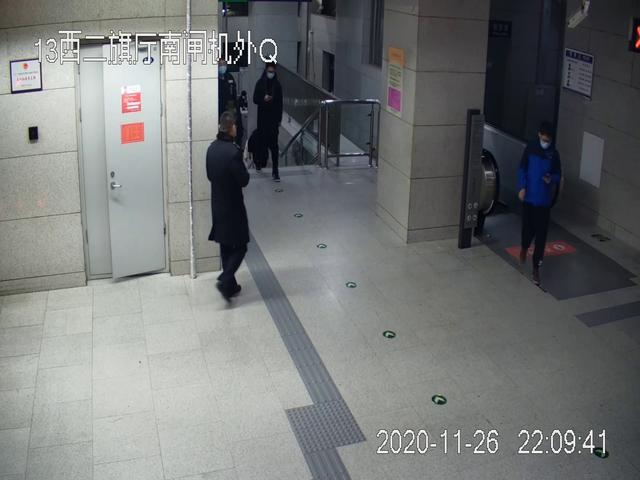person: (205, 115, 253, 310), (516, 125, 558, 285), (253, 60, 284, 182)
